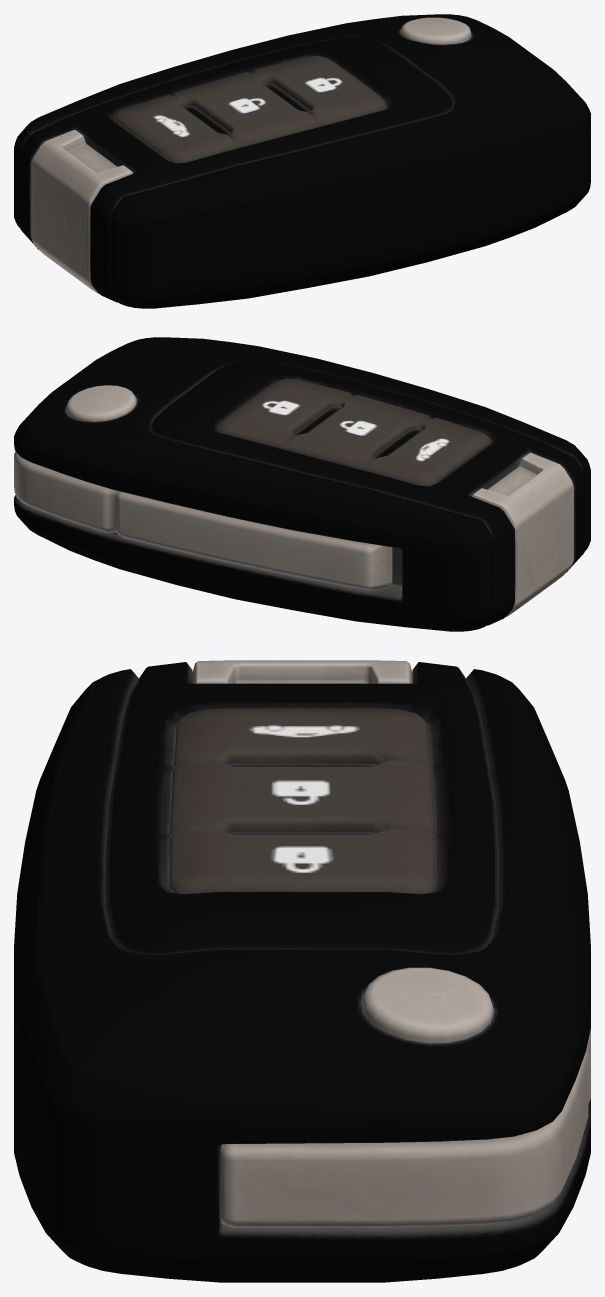
The model's file is StackUp_CarKey.fbx.
3 views of the same model, one above another, from view 1: azimuth 30°, elevation 25°; view 2: azimuth 150°, elevation 25°; view 3: azimuth 270°, elevation 25° (orthographic). The views are drawn at different scales.
Parts seen in each view (by area): view 1: StackUp_CarKey; view 2: StackUp_CarKey; view 3: StackUp_CarKey.
Boxes of the visible parts, box(x1,y1,x2,y2) form: StackUp_CarKey: box(14, 14, 590, 308); StackUp_CarKey: box(14, 337, 590, 631); StackUp_CarKey: box(14, 660, 590, 1282).
Size of the model in its own units: 18.45 by 5.36 by 10.29.
